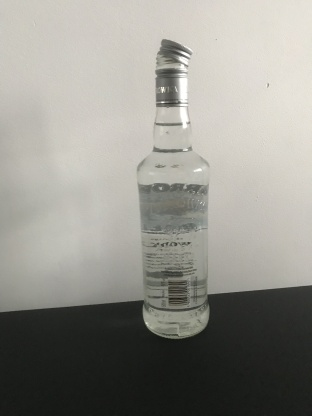nakretka: (153, 36, 194, 107)
